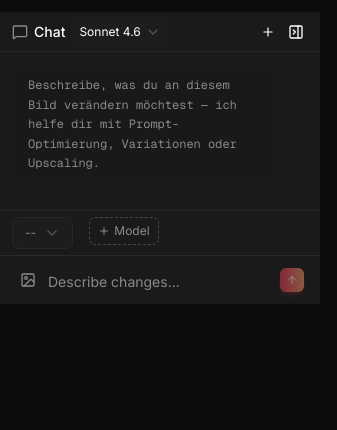
Test: CanvasChatPanel (Backend-Integration) › AC-4: should hide streaming indicator when text-done event is received
This screenshot has width=337, height=430.
Type "test" into the text box with test id "chat-input-textarea" at {"x": 160, "y": 282}, box [48, 272, 272, 292]
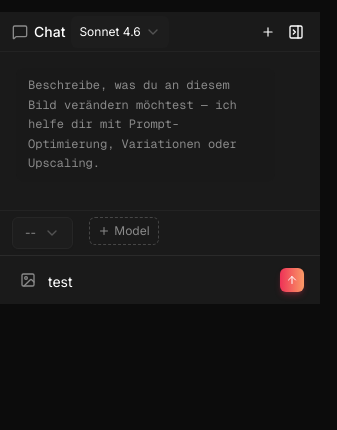
Click the button with test id "send-btn" at {"x": 292, "y": 280}, box [280, 268, 304, 292]
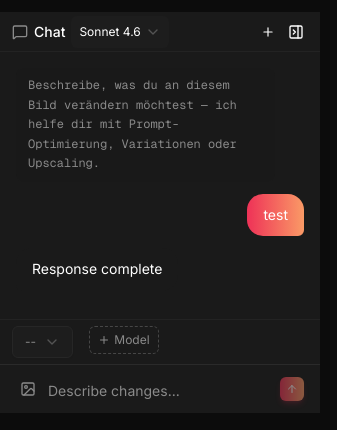
Now the element with test id "assistant-message" reads "Response complete", box [32, 260, 162, 277]
